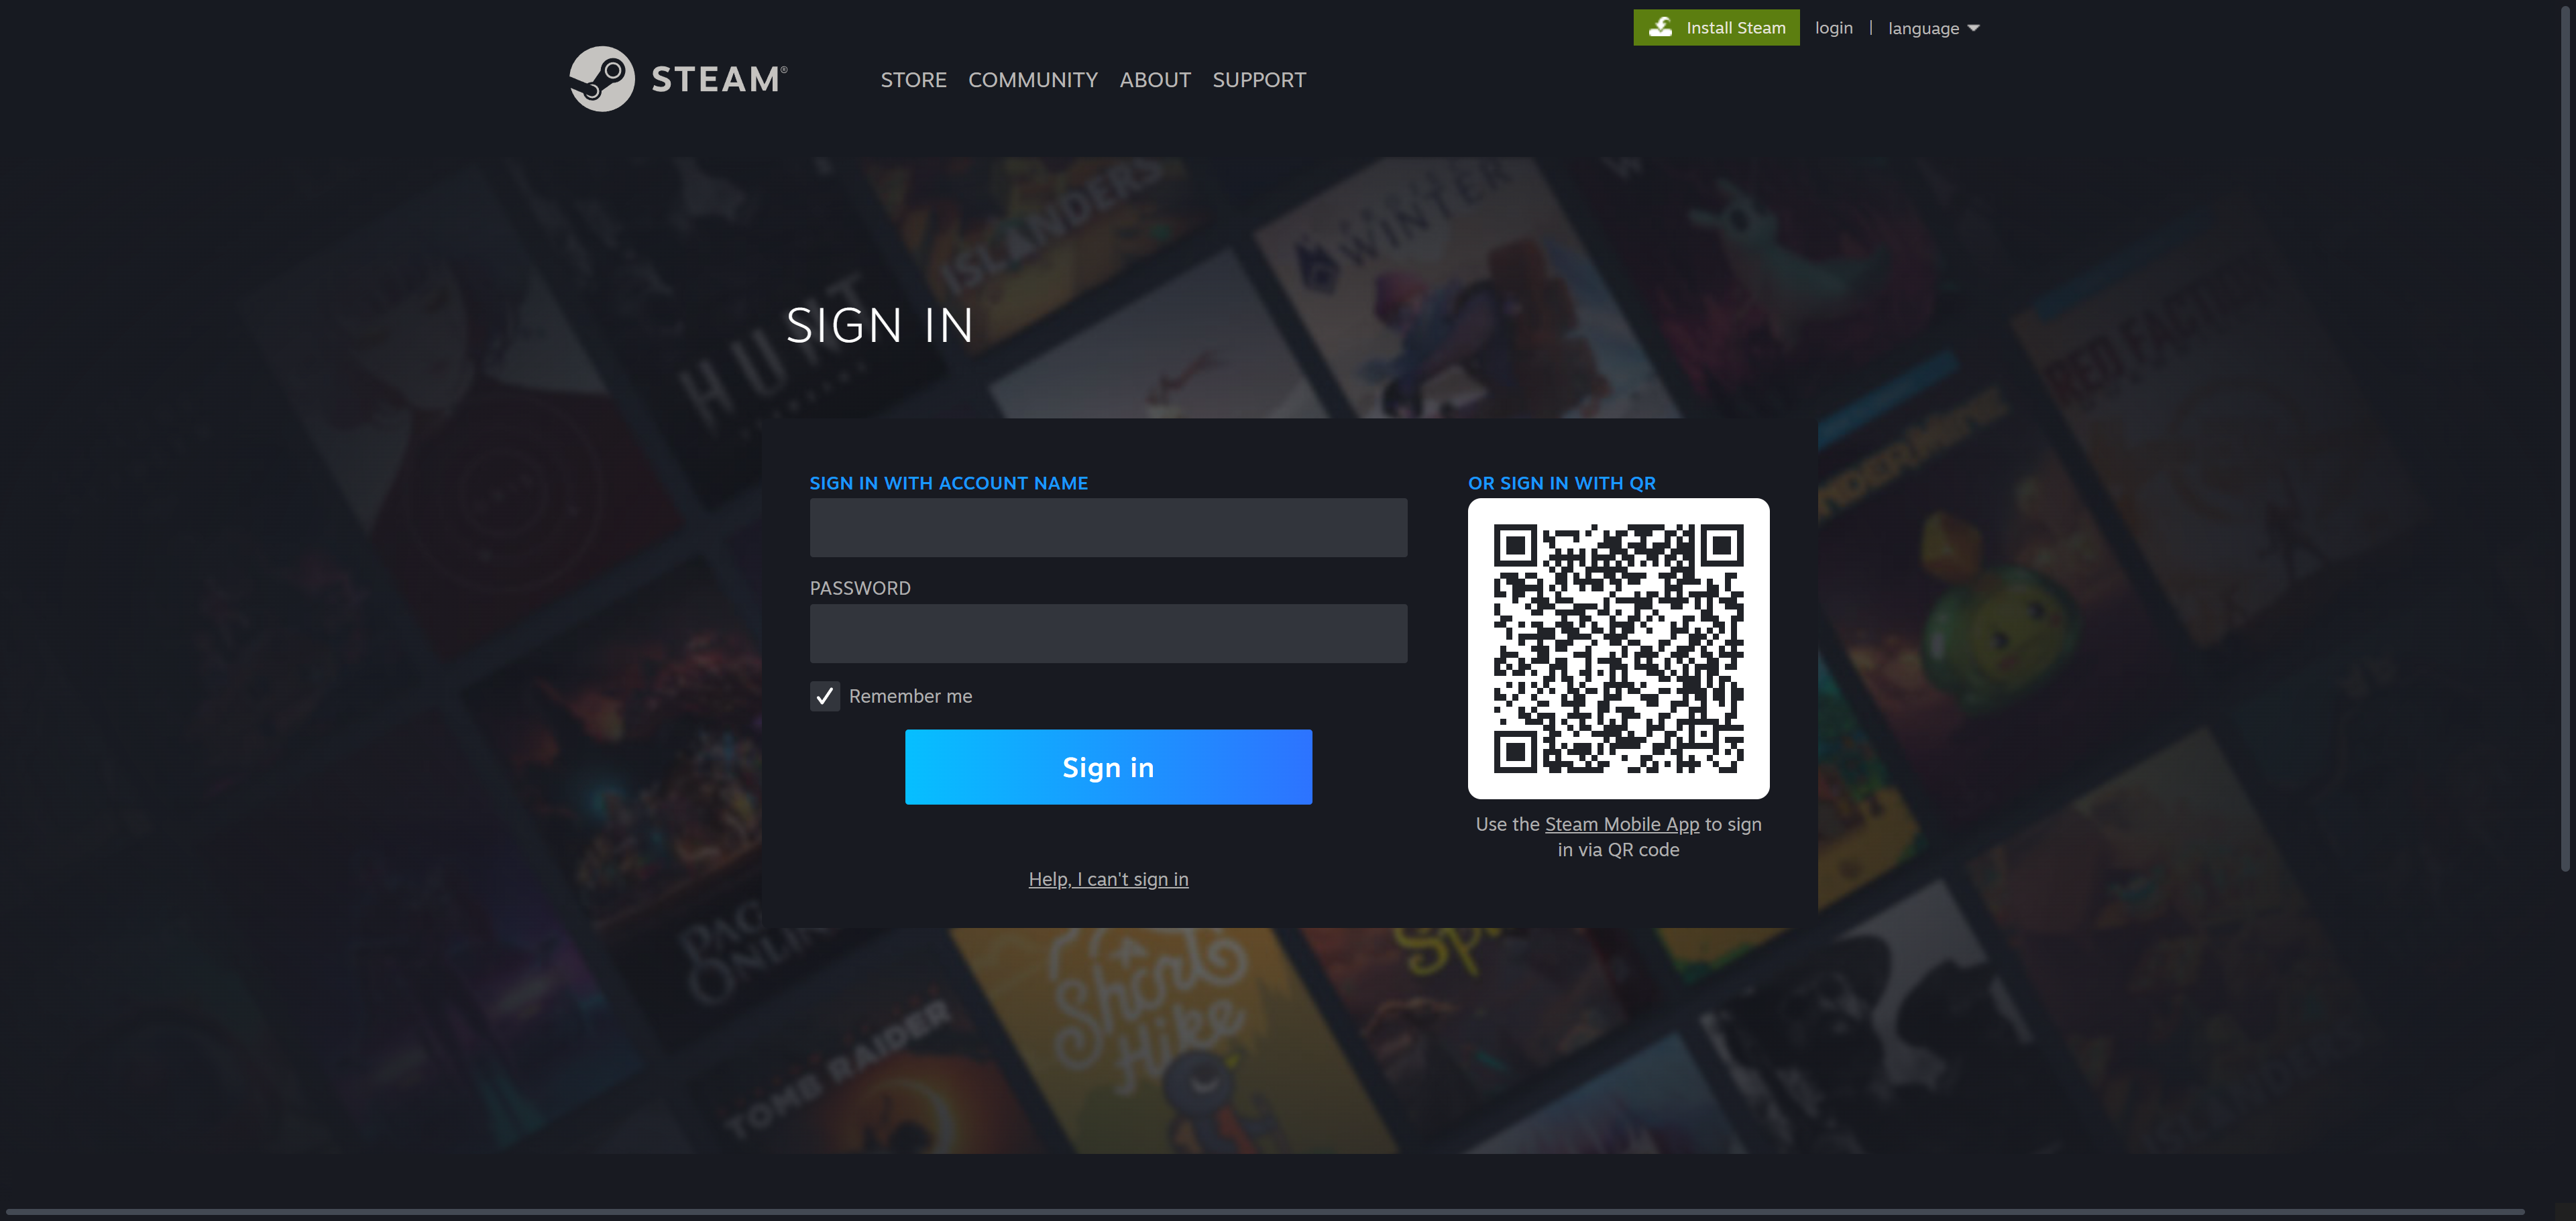login_button: (905, 730, 1311, 804)
login_form: (803, 467, 1414, 813)
